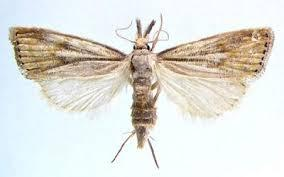insect: (7, 13, 276, 171)
